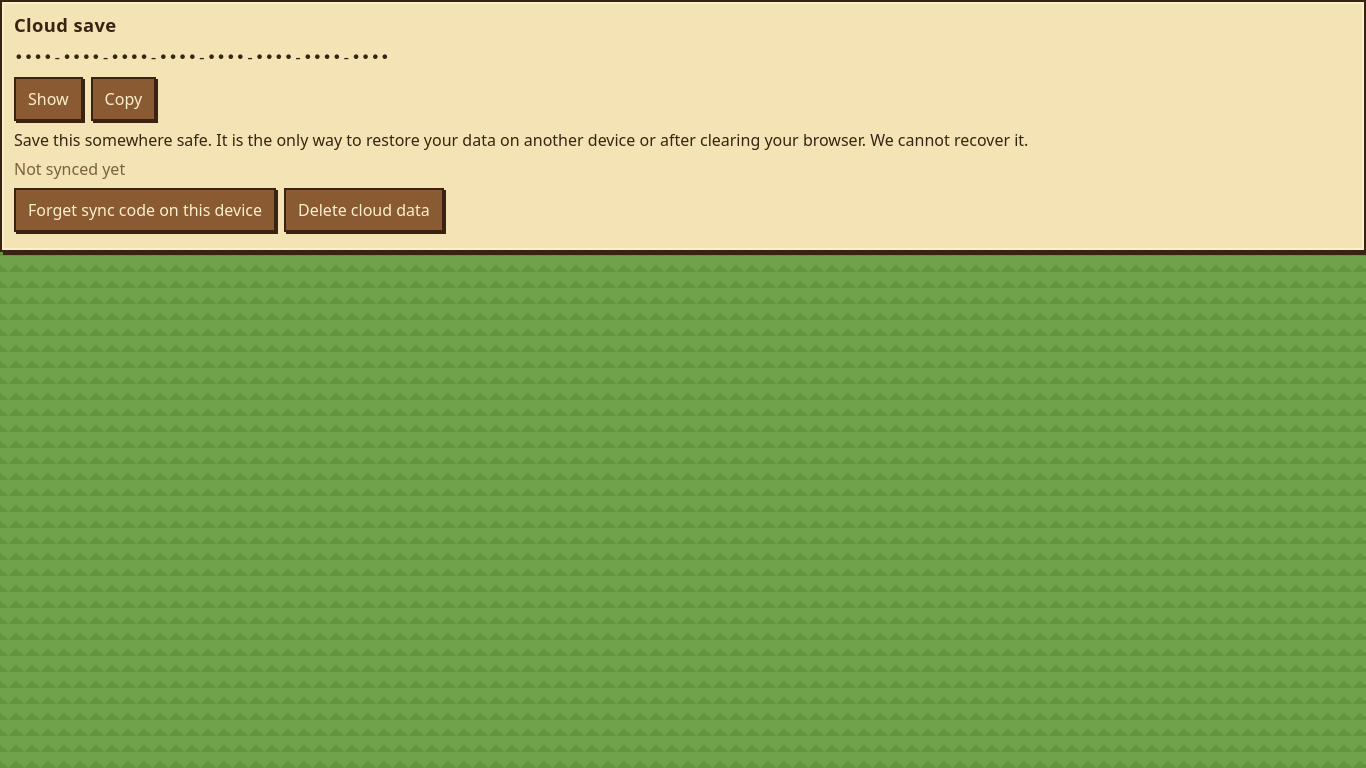
Test: SyncSection fix round › successful delete shows no failure message
Click the button "Delete cloud data".
click(364, 210)  # box [284, 188, 444, 232]
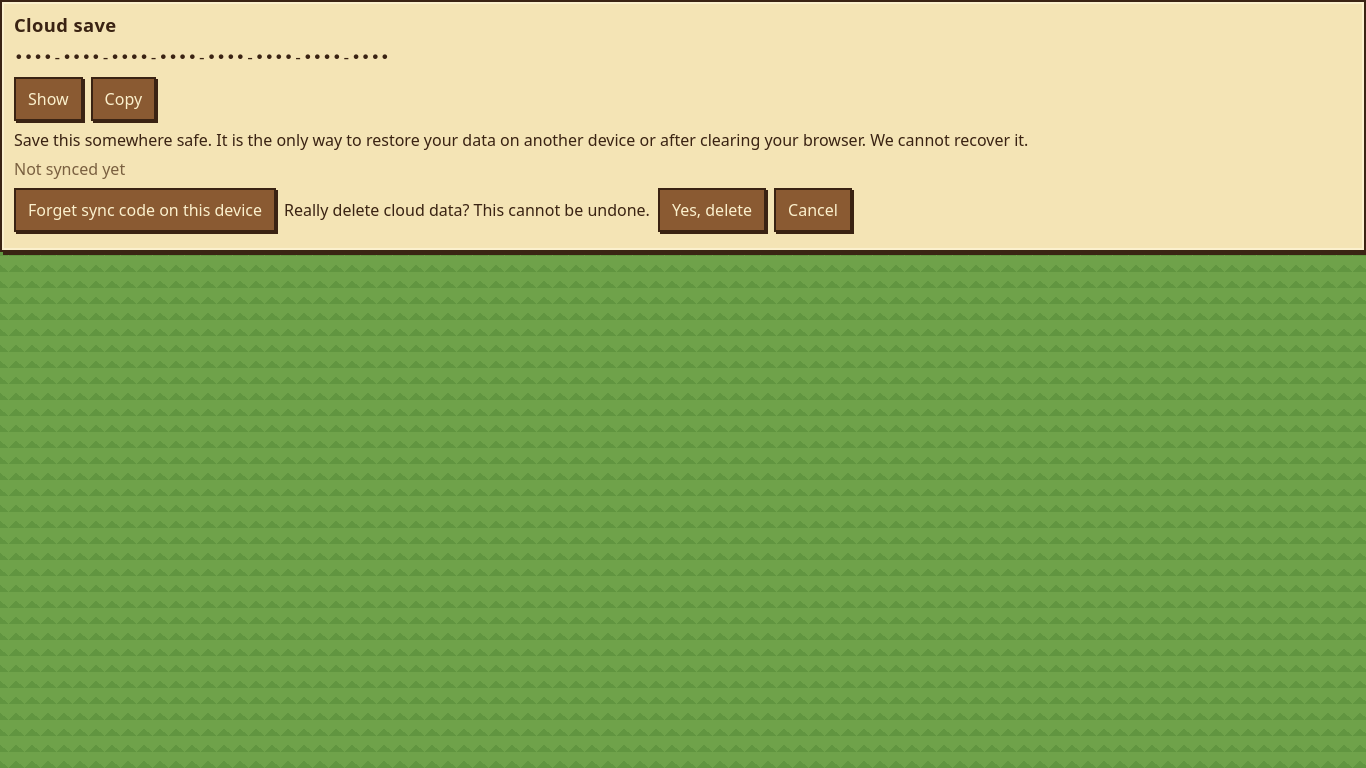
Click the button "Yes, delete".
click(712, 210)  # box [658, 188, 766, 232]
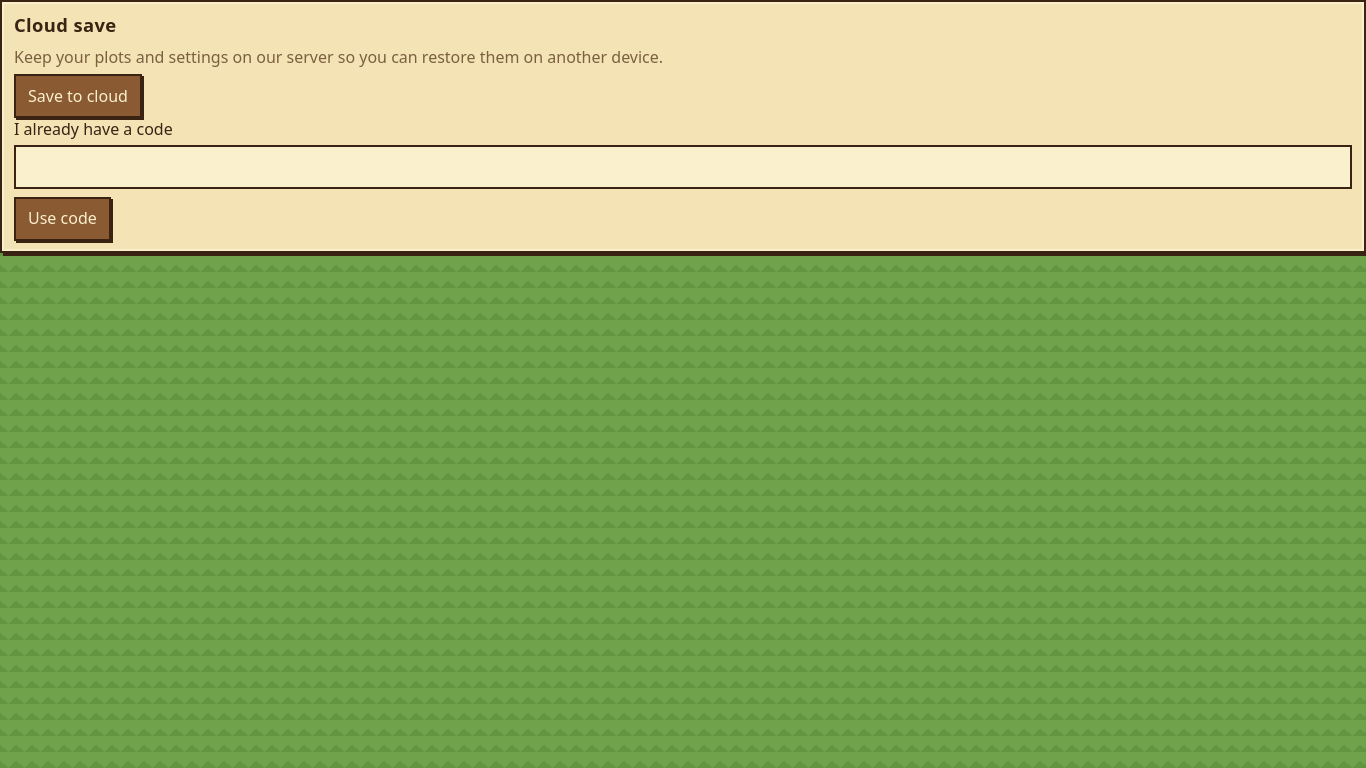
Expected: the button "Save to cloud" is enabled, [14, 74, 142, 118]
